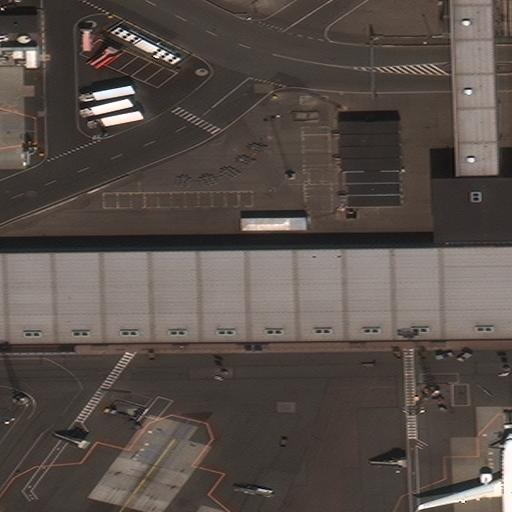Medium Civil Transport: (417, 431, 512, 512)
